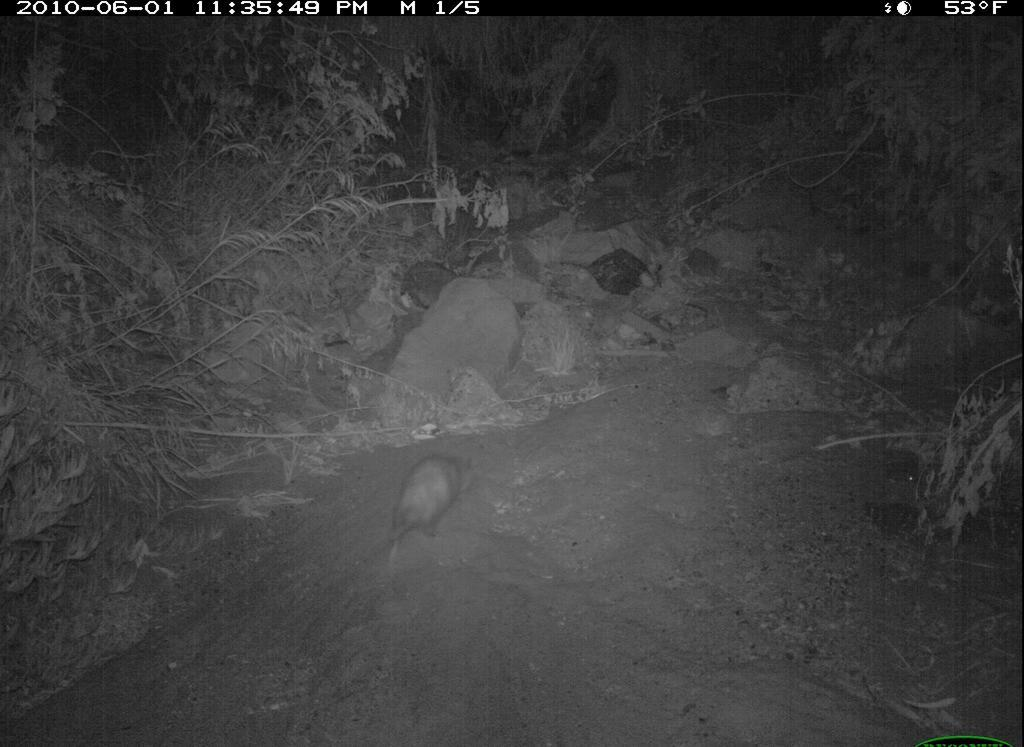opossum: (382, 447, 489, 556)
